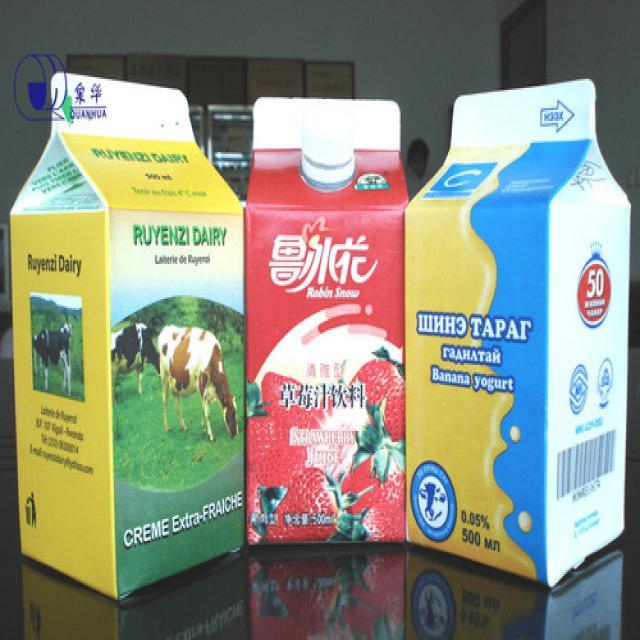Carton: (8, 51, 246, 600), (407, 76, 640, 614)
